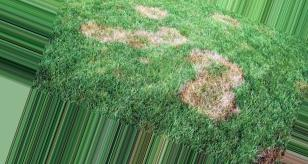patch: (197, 55, 226, 117), (87, 23, 144, 43), (157, 28, 186, 45), (215, 15, 238, 26), (142, 7, 163, 19)
